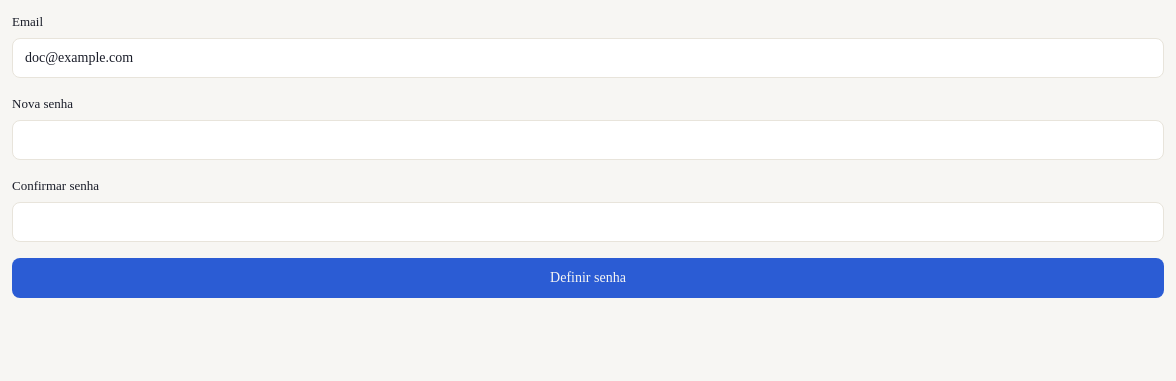
SetPasswordForm (integration) › with token › shows "expirou" message on 422 expired error
The width and height of the screenshot is (1176, 381).
Type "password123" into the password field with test id "set-password-password" at [588, 140], box [12,120,1164,160]
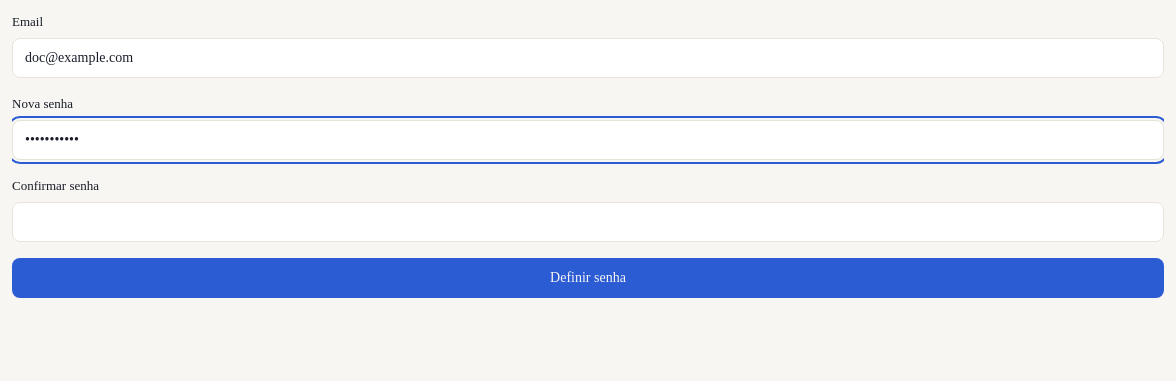
Type "password123" into the password field with test id "set-password-confirm-password" at [588, 222], box [12,202,1164,242]
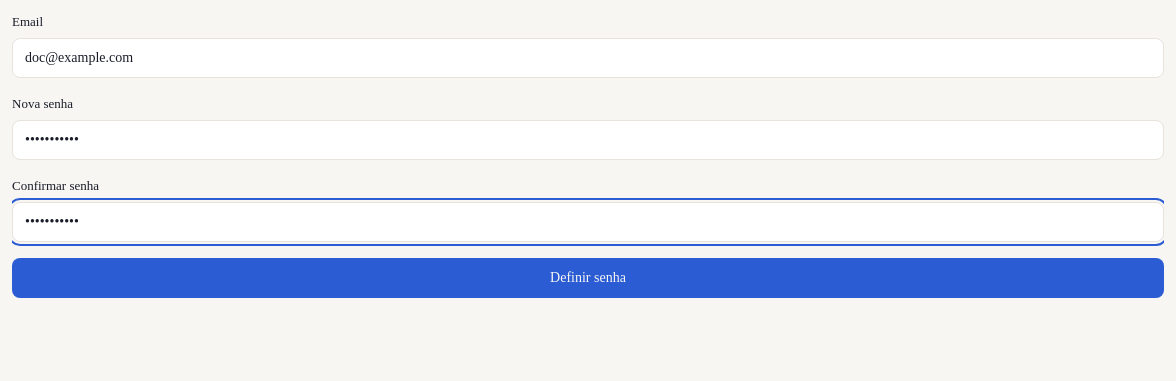
Click the button with test id "set-password-submit" at [588, 278], box [12,258,1164,298]
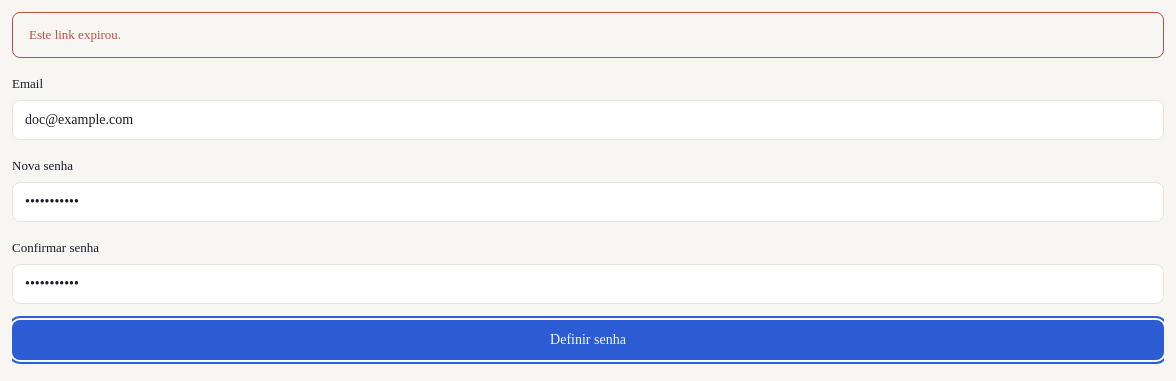
Now the message with test id "set-password-error" reads "Este link expirou.", box [29,27,121,42]
